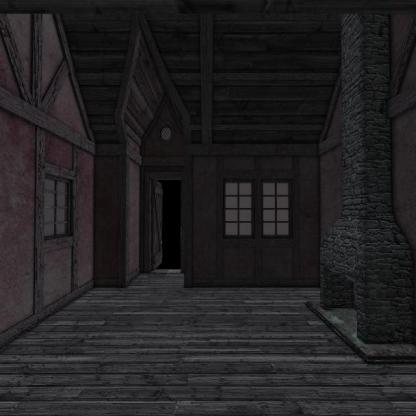door: (143, 168, 189, 277)
